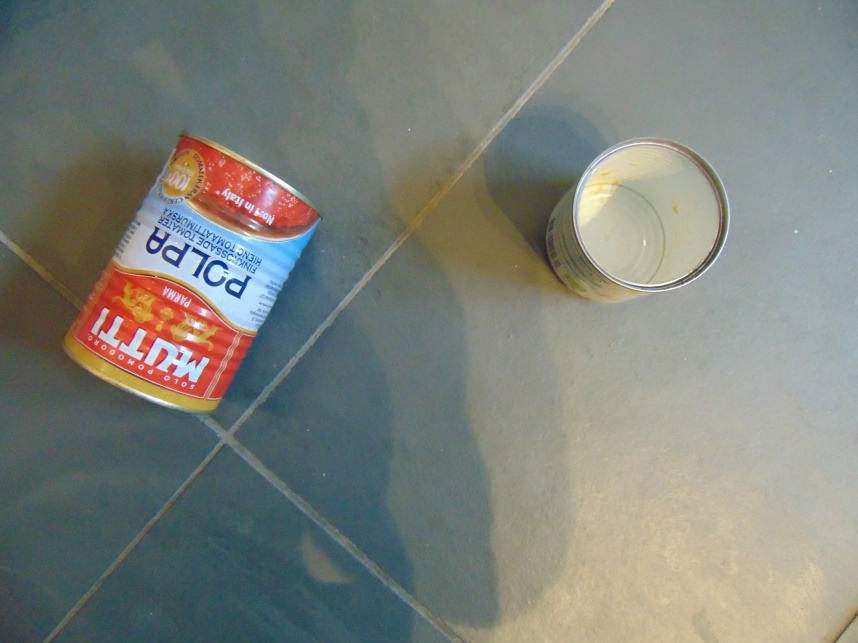metal_can: (59, 128, 325, 418), (540, 137, 732, 306)
